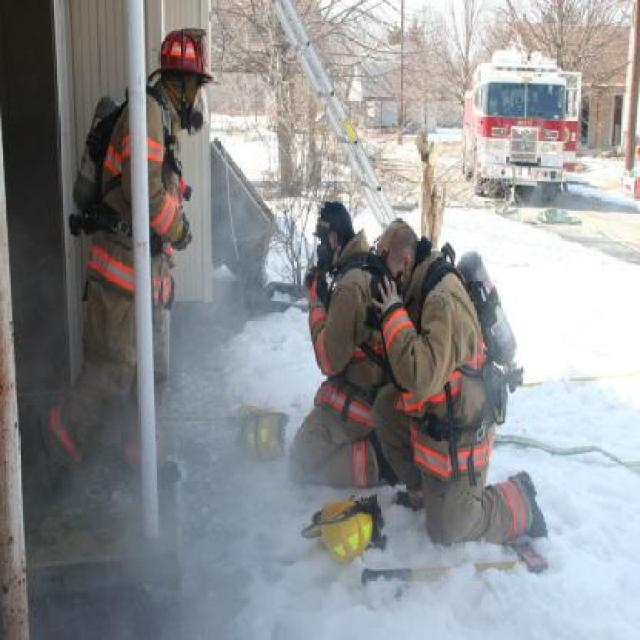Person: (29, 20, 217, 503), (360, 214, 548, 543), (286, 201, 400, 490)
